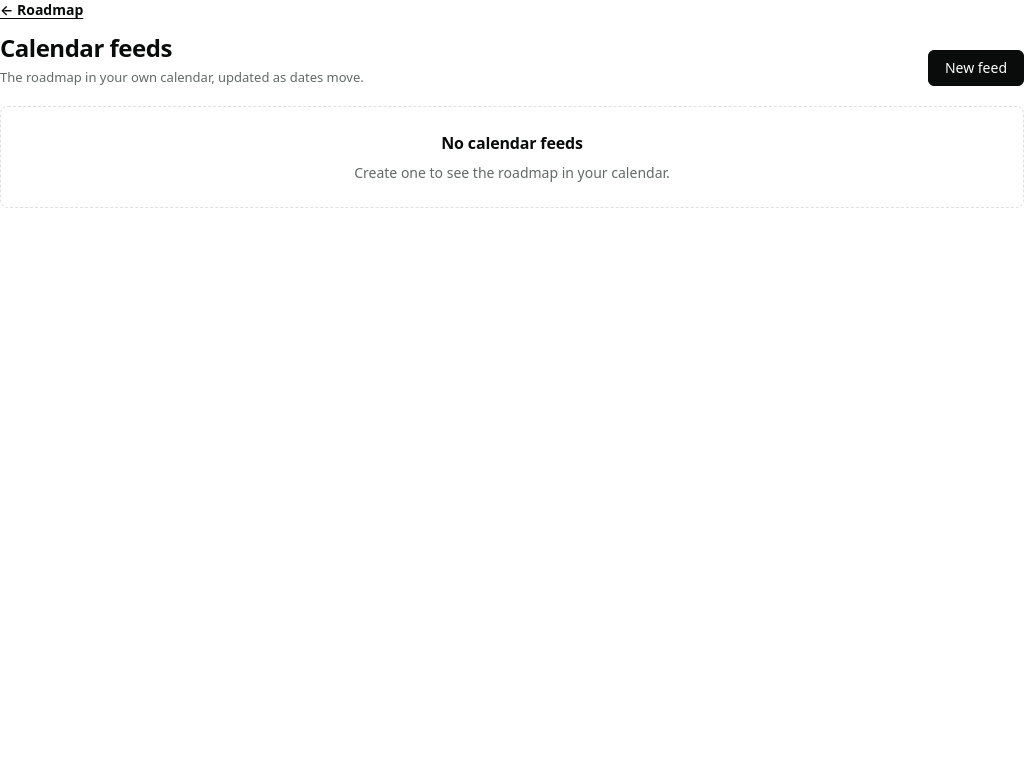
Test: calendar feeds › asks for the passkey when the sign-in is not recent, and says nothing changed when the person cancels
The width and height of the screenshot is (1024, 768).
Expected: the heading "No calendar feeds" is shown, [441, 132, 583, 154]
Click the button "New feed" at (976, 68), box [928, 50, 1023, 86]
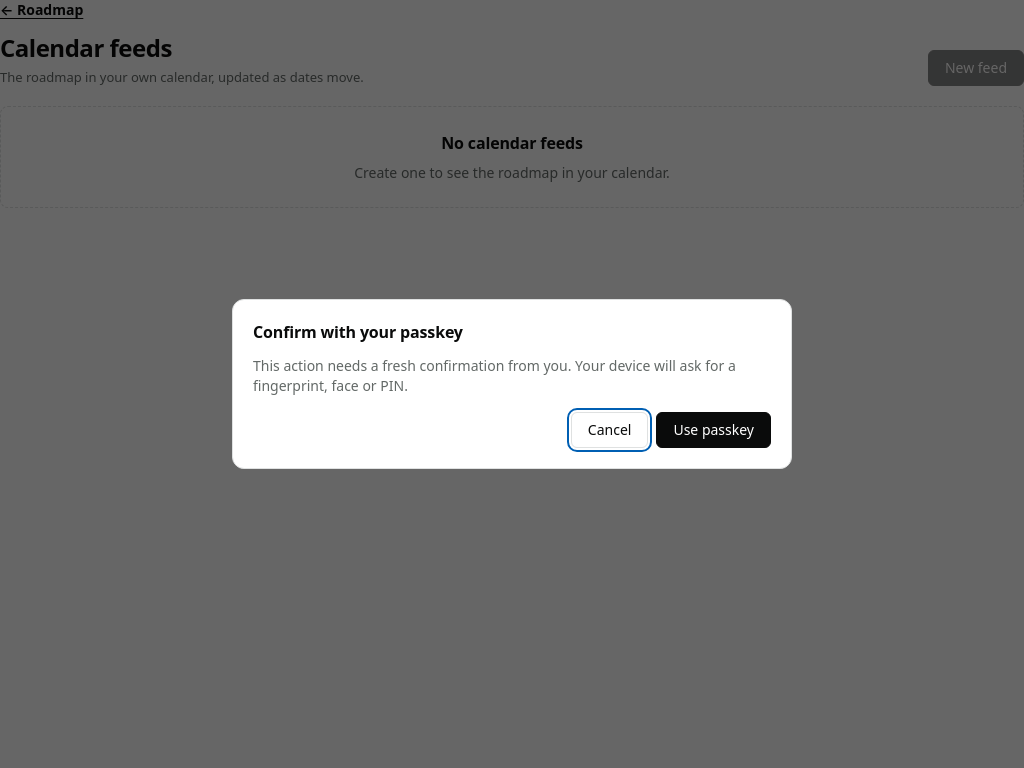
Click the button "Cancel" at (610, 430), box [571, 412, 648, 448]
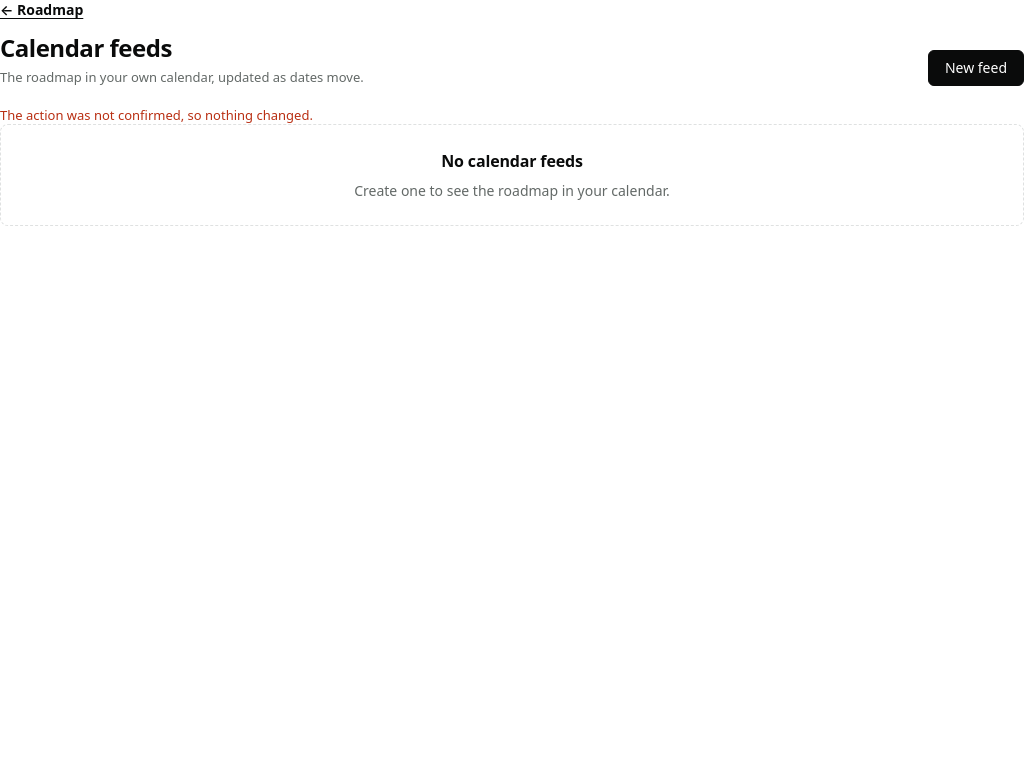
Now the message reads "The action was not confirmed, so nothing changed.", box [0, 106, 313, 124]
